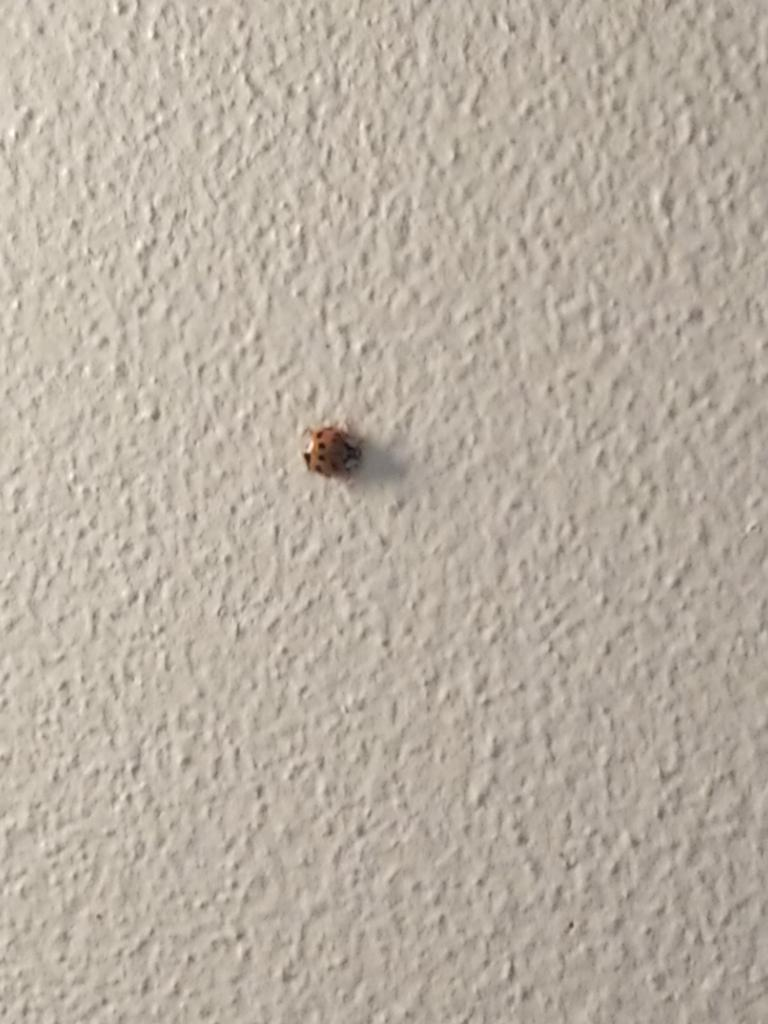ladybug: (302, 424, 366, 482)
